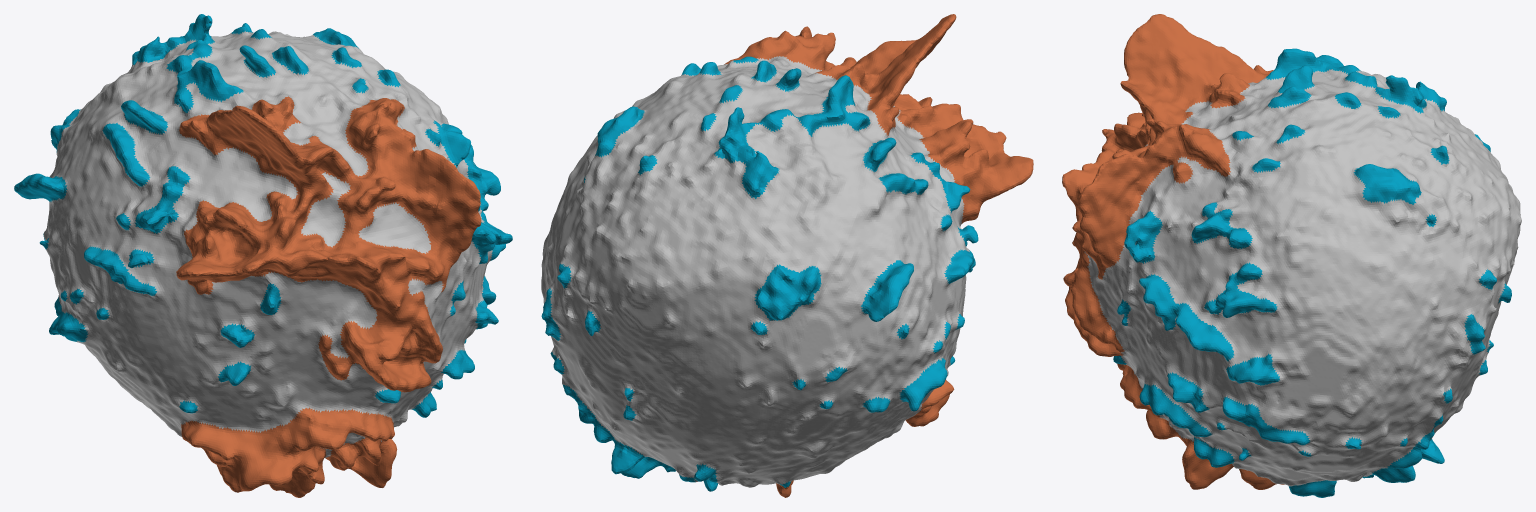
3 views of the same model, side by side, from view 1: azimuth 30°, elevation 25°; view 2: azimuth 150°, elevation 25°; view 3: azimuth 270°, elevation 25° (orthographic). The views are drawn at different scales.
Size of the model in its own units: 150 by 165 by 161.
